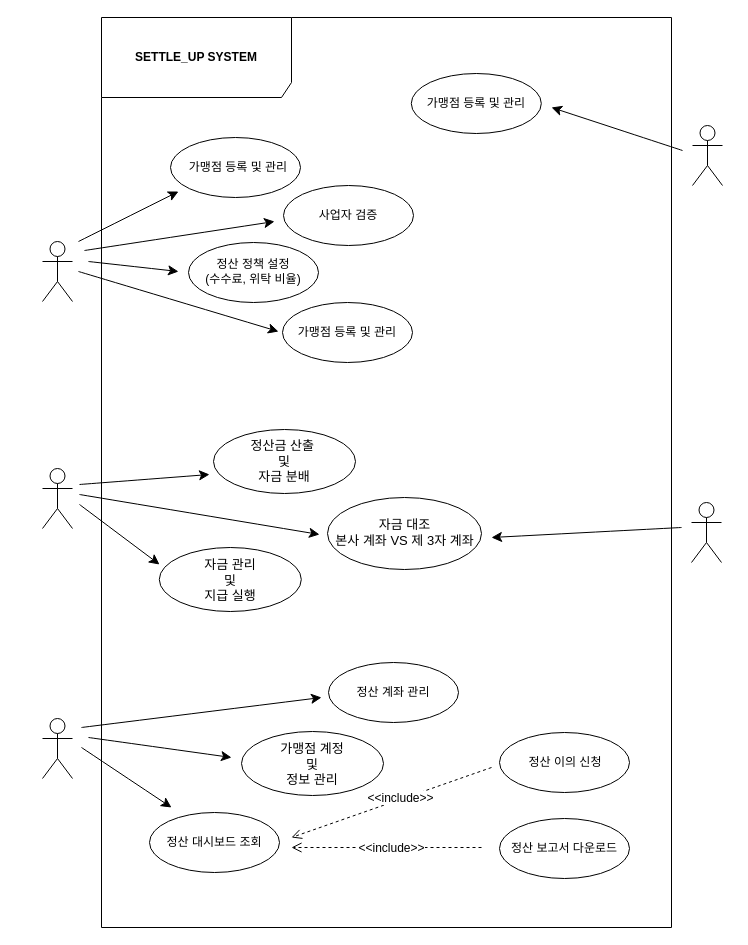
Image size: 748x945. Some labels were removed from this diagram. The shapes that lost their labels are listed below. From the top down, each one's centre as x and y in pixels, then its label:
At [707,155]: "카드/PG".
At [57,271]: "본사 관리자".
At [57,498]: "시스템 스케줄러".
At [706,532]: "신탁 은행".
At [57,748]: "가맹점".
